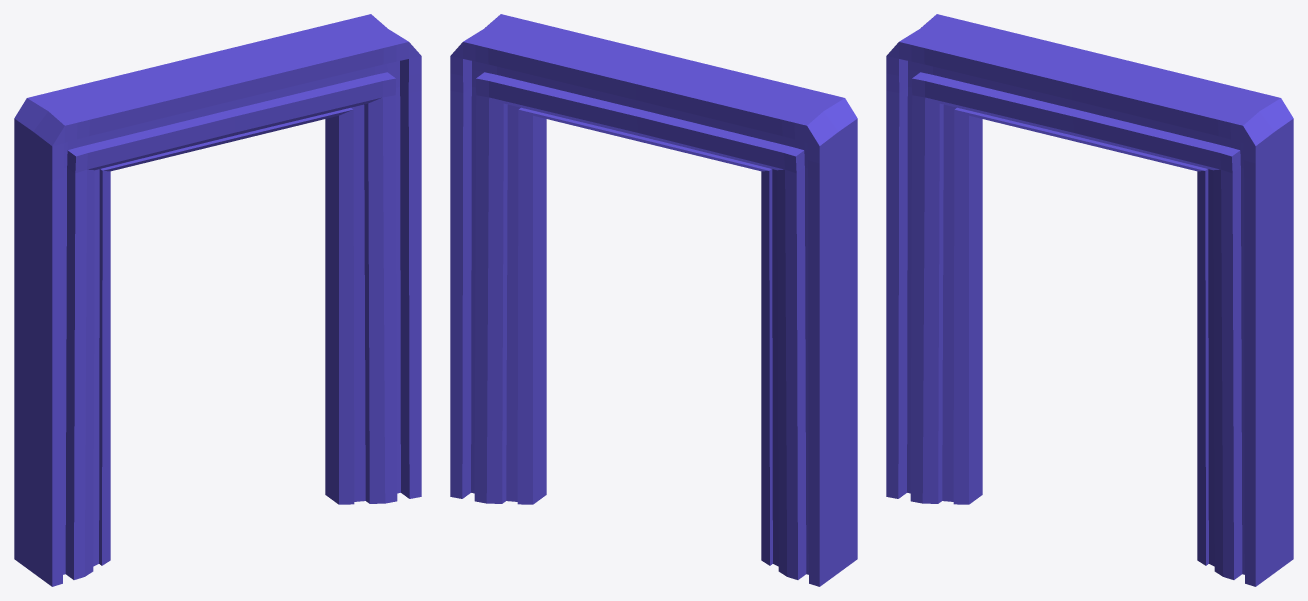
Rendered from Elevator Front.fbx.
3 renders of one model, left to right at view 1: azimuth 30°, elevation 25°; view 2: azimuth 150°, elevation 25°; view 3: azimuth 330°, elevation 25°, orthographic.
Visible parts, largest first — view 1: Elevator Front; view 2: Elevator Front; view 3: Elevator Front.
Part boxes in pixels (<box>): Elevator Front: <box>14,14,421,586</box>; Elevator Front: <box>450,14,857,586</box>; Elevator Front: <box>886,14,1293,586</box>.
Size of the model in its own units: 247 by 293 by 44.09.
